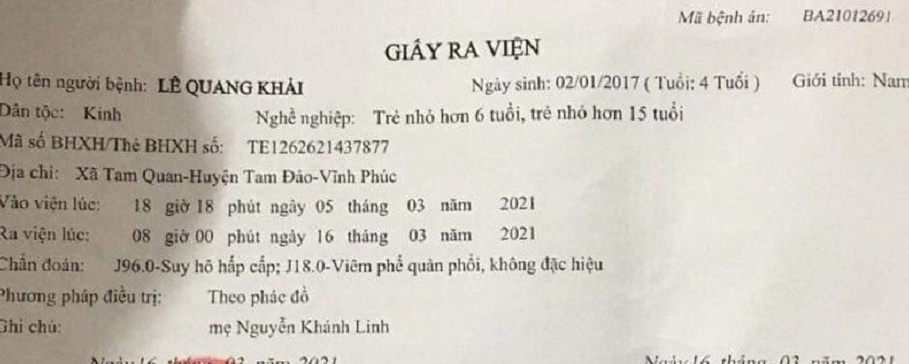add: (191, 163, 242, 188), (139, 163, 190, 186), (358, 164, 400, 187), (242, 164, 280, 188), (280, 165, 321, 186), (320, 165, 358, 187), (103, 163, 139, 185), (71, 162, 103, 185)
birth: (716, 70, 752, 94), (699, 72, 713, 93)
come_time: (345, 197, 393, 217), (224, 195, 264, 218), (495, 192, 538, 213), (269, 195, 309, 217), (438, 195, 474, 217), (164, 195, 193, 220), (127, 195, 156, 218), (195, 195, 219, 219), (402, 196, 430, 216), (314, 196, 338, 216)
diagnostic: (487, 254, 538, 276), (284, 254, 333, 276), (112, 256, 162, 277), (445, 254, 487, 276), (334, 254, 374, 277), (408, 254, 445, 278), (247, 254, 283, 278), (569, 254, 606, 276), (375, 254, 407, 278), (217, 254, 247, 277), (537, 254, 568, 276), (161, 257, 190, 277), (193, 257, 217, 277)
id: (238, 131, 397, 158)
job: (651, 101, 687, 128), (488, 102, 526, 126), (555, 101, 588, 127), (590, 100, 623, 126), (371, 103, 403, 128), (403, 103, 435, 128), (437, 103, 469, 128), (526, 101, 554, 128), (623, 100, 650, 126), (470, 103, 489, 127)
name: (185, 74, 254, 96), (256, 74, 306, 97), (156, 74, 183, 96)
nation: (82, 105, 123, 124)
note: (235, 315, 298, 340), (298, 315, 352, 339), (353, 315, 396, 338), (203, 317, 235, 339)
out_time: (345, 226, 392, 247), (496, 221, 538, 244), (268, 227, 309, 249), (226, 228, 262, 249), (440, 225, 476, 246), (126, 226, 156, 249), (163, 226, 192, 249), (405, 225, 433, 247), (193, 227, 217, 249), (316, 226, 338, 248)
sex: (871, 70, 909, 91)
solution: (206, 286, 248, 309), (250, 286, 287, 308), (287, 286, 317, 309)
